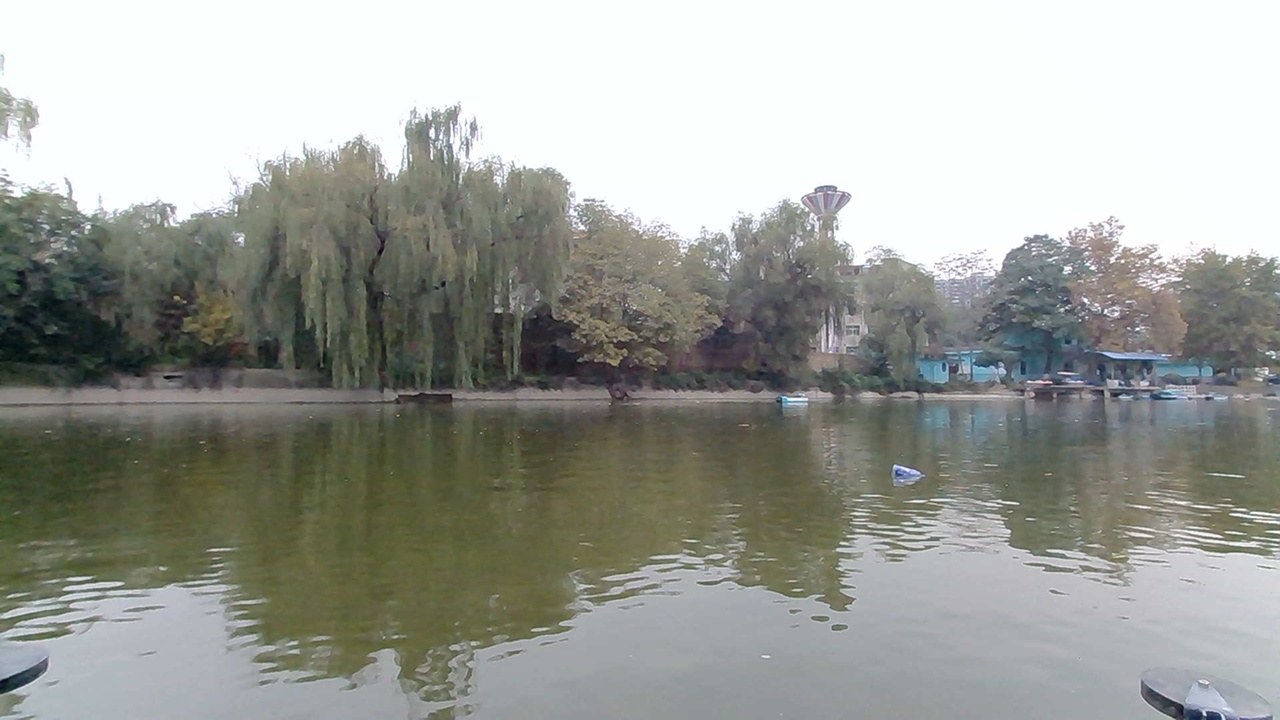bottle: (886, 457, 931, 491)
